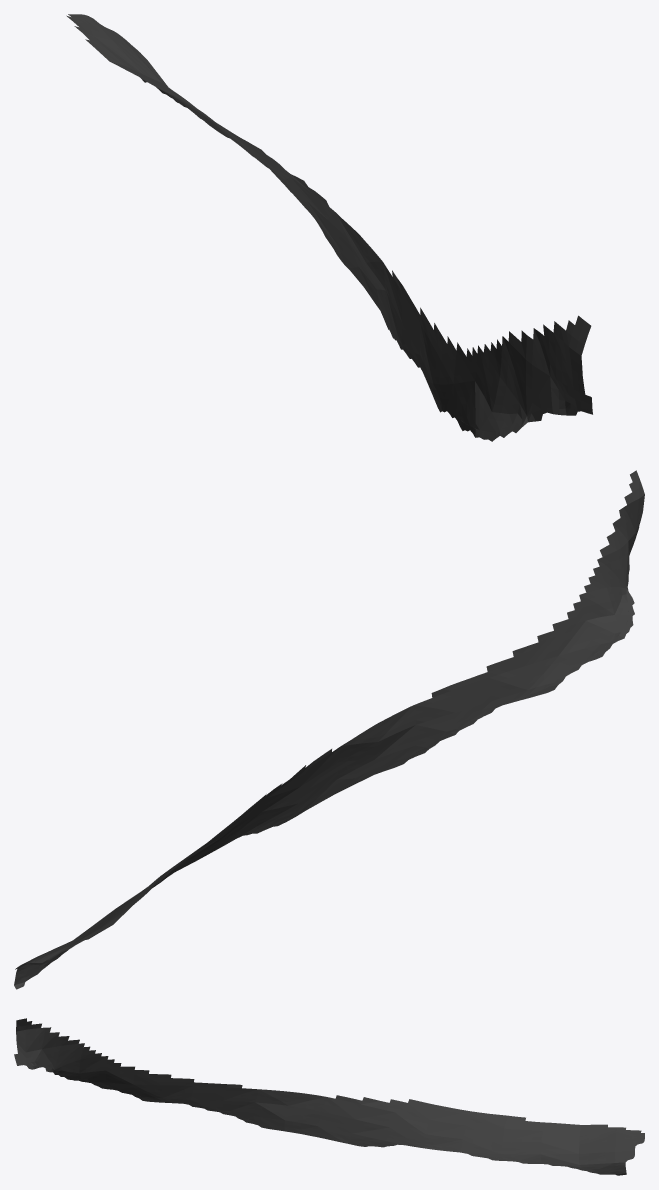
Rendered from a_radial.glb.
3 renders of one model, top to bottom at view 1: azimuth 30°, elevation 25°; view 2: azimuth 150°, elevation 25°; view 3: azimuth 270°, elevation 25°, orthographic. The views are drawn at different scales.
Visible parts, largest first — view 1: a_radial; view 2: a_radial; view 3: a_radial.
Boxes of the visible parts, left/top/right/bottom form: a_radial: left=66, top=14, right=592, bottom=441; a_radial: left=14, top=470, right=644, bottom=989; a_radial: left=14, top=1018, right=644, bottom=1175.
Size of the model in its own units: 0.0153 by 0.0166 by 0.0798.
1 material, 1 textured.
